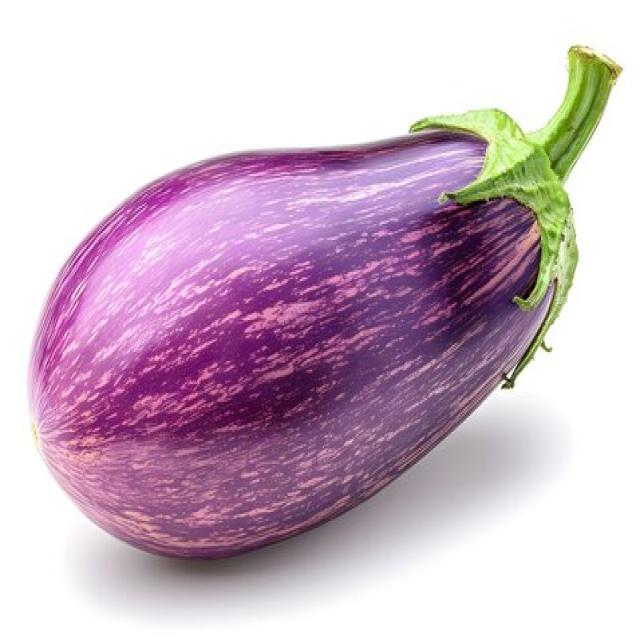Eggplant: (25, 43, 622, 560)
